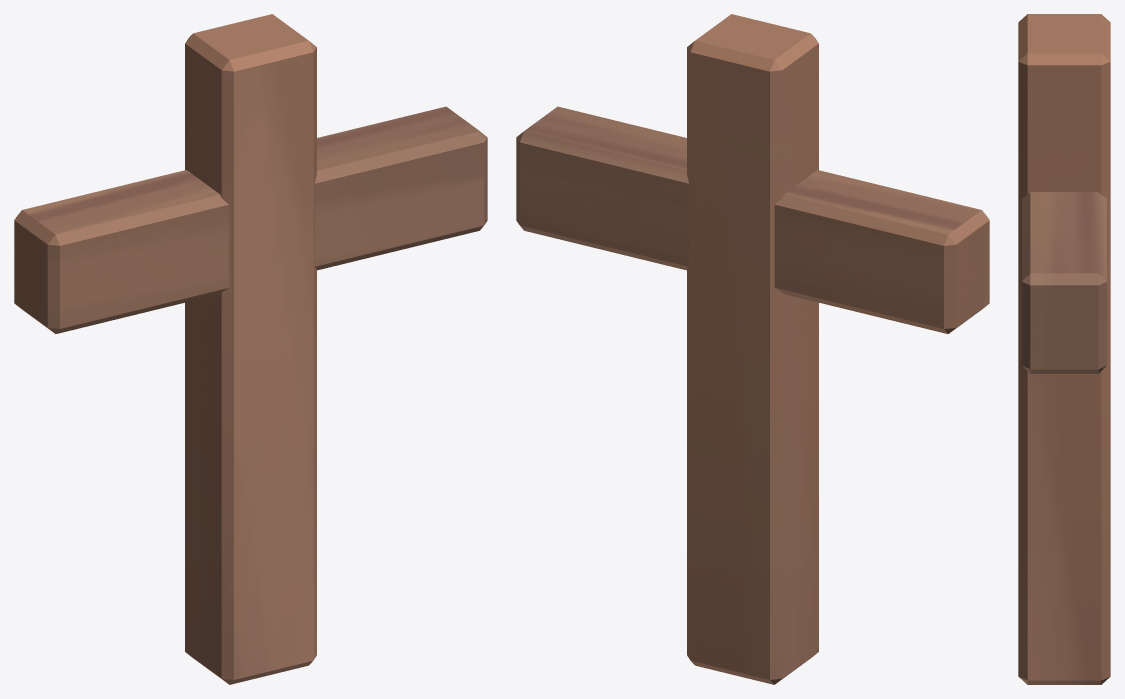
File: cross.fbx
The picture shows the model from 3 angles, left to right: view 1: azimuth 30°, elevation 25°; view 2: azimuth 150°, elevation 25°; view 3: azimuth 270°, elevation 25°; orthographic projection.
Visible parts, largest first — view 1: polySurface207; view 2: polySurface207; view 3: polySurface207.
Boxes of the visible parts, x1,y1,x2,y2 form: polySurface207: (14, 14, 487, 684); polySurface207: (516, 14, 989, 684); polySurface207: (1018, 14, 1110, 684).
Size of the model in its own units: 27.8 by 37.73 by 4.99.
